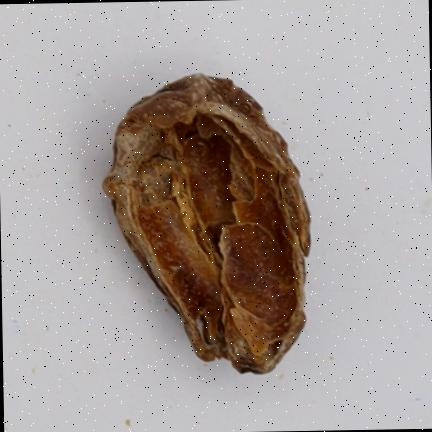husk: (104, 75, 310, 372)
